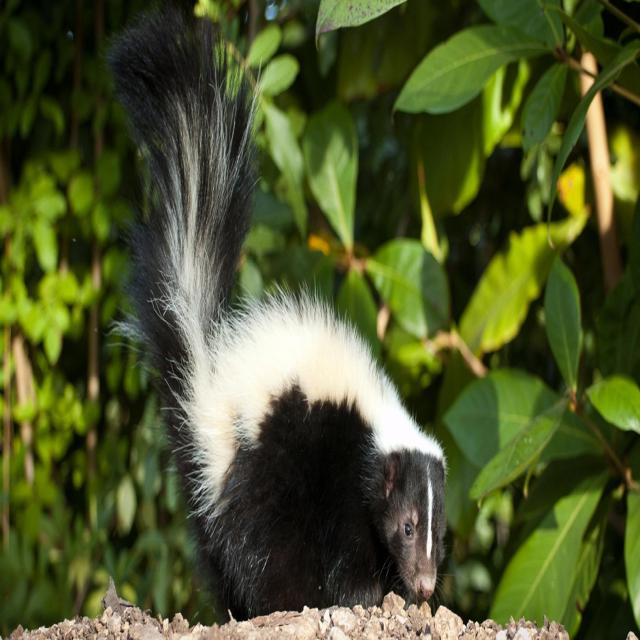Skunk: (91, 0, 460, 614)
